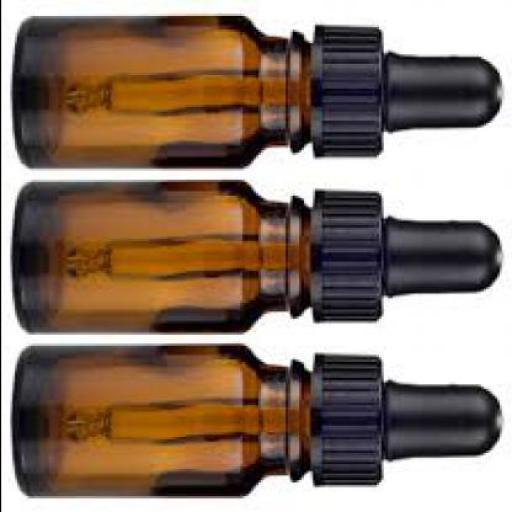glass: (12, 343, 312, 496), (16, 11, 311, 166), (16, 180, 309, 332)
plastic: (310, 23, 505, 157), (314, 353, 506, 484), (314, 188, 506, 319)
